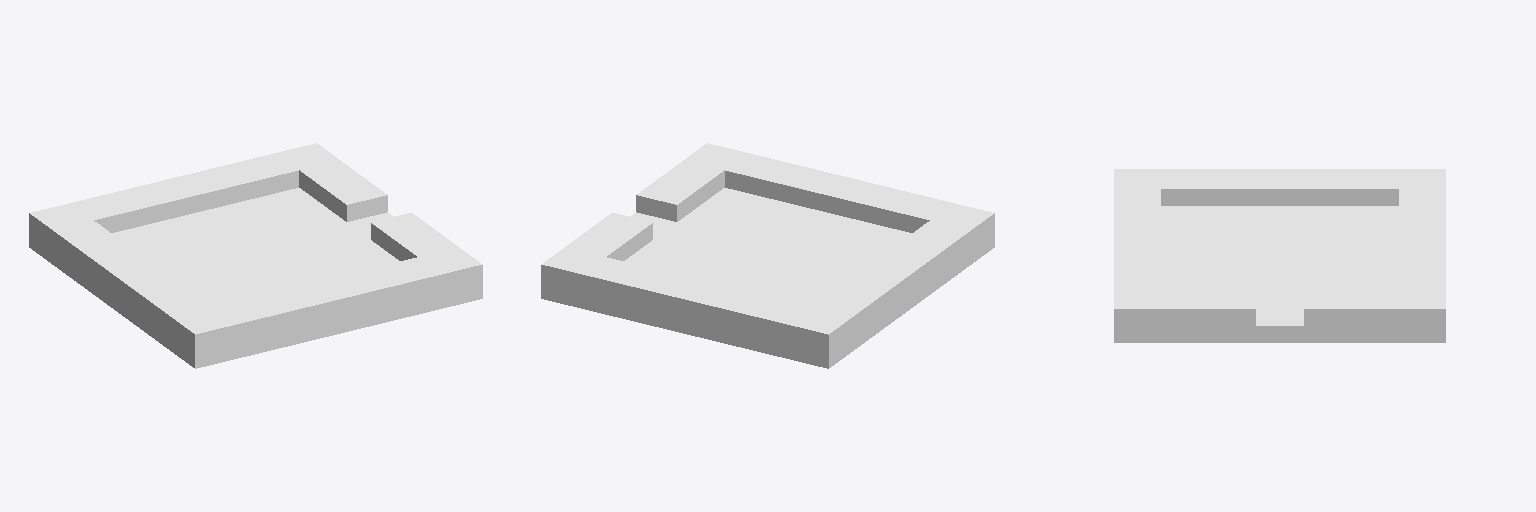
The model's file is EndPlaza.obj.
3 views of the same model, side by side, from view 1: azimuth 30°, elevation 25°; view 2: azimuth 150°, elevation 25°; view 3: azimuth 270°, elevation 25° (orthographic).
Visible parts, largest first — view 1: object 1; view 2: object 1; view 3: object 1.
Part boxes in pixels (bbox=[...]): object 1: bbox=[29, 143, 482, 368]; object 1: bbox=[541, 143, 994, 368]; object 1: bbox=[1114, 169, 1445, 342].
Size of the model in its own units: 7 by 0.8 by 7.